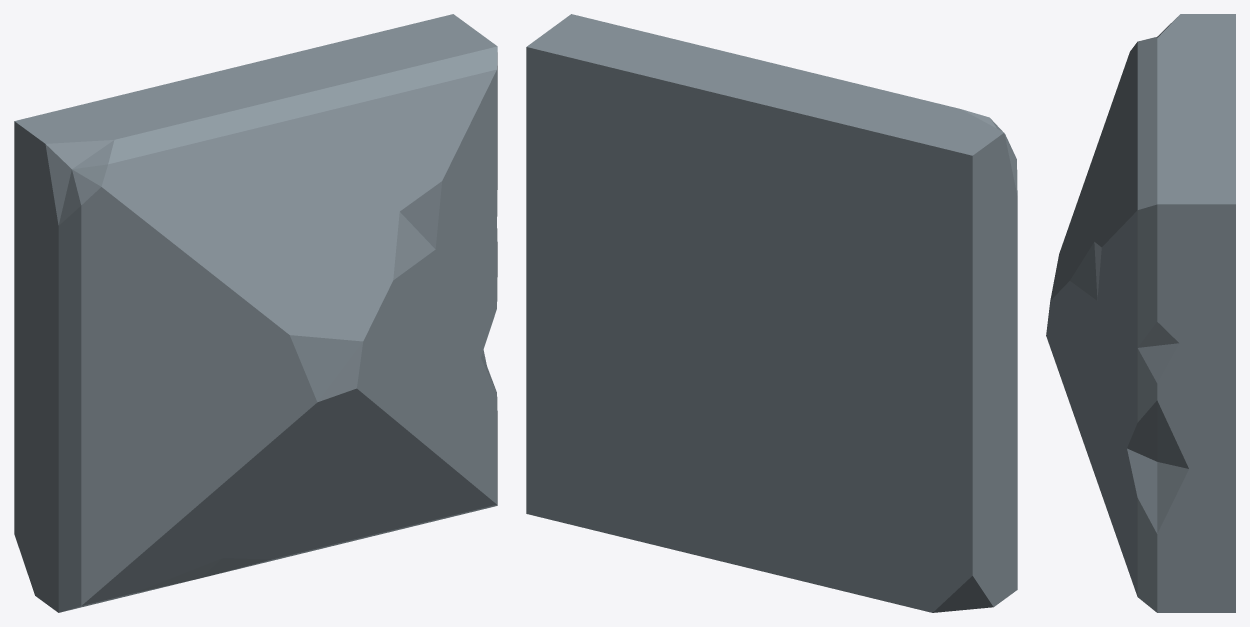
Rendered from SM_Prop_Wall_Panel_Small_02.fbx.
3 views of the same model, side by side, from view 1: azimuth 30°, elevation 25°; view 2: azimuth 150°, elevation 25°; view 3: azimuth 270°, elevation 25° (orthographic). The views are drawn at different scales.
Visible parts, largest first — view 1: SM_Prop_Wall_Panel_Small_02; view 2: SM_Prop_Wall_Panel_Small_02; view 3: SM_Prop_Wall_Panel_Small_02.
Part boxes in pixels (x1,y1,x2,y2): SM_Prop_Wall_Panel_Small_02: [14, 14, 497, 612]; SM_Prop_Wall_Panel_Small_02: [526, 14, 1017, 612]; SM_Prop_Wall_Panel_Small_02: [1046, 14, 1235, 612].
Bounding box in the file's own units: 50.07 × 50.07 × 21.08.
Materials: 1 (1 with a texture image).
